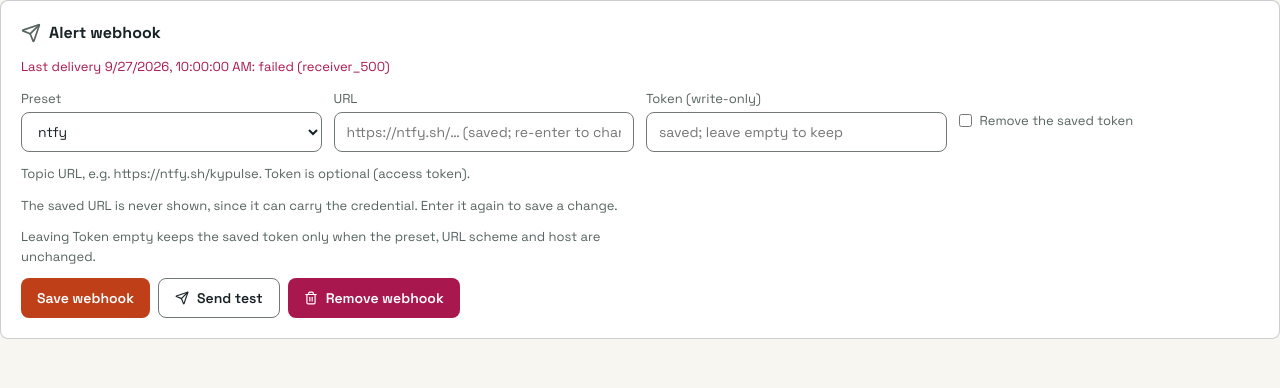
Test: WebhookForm › shows the reason when a test send fails, and re-reads the webhook
Click the button "Send test".
click(219, 298)  # box x1=158 y1=278 x2=280 y2=318
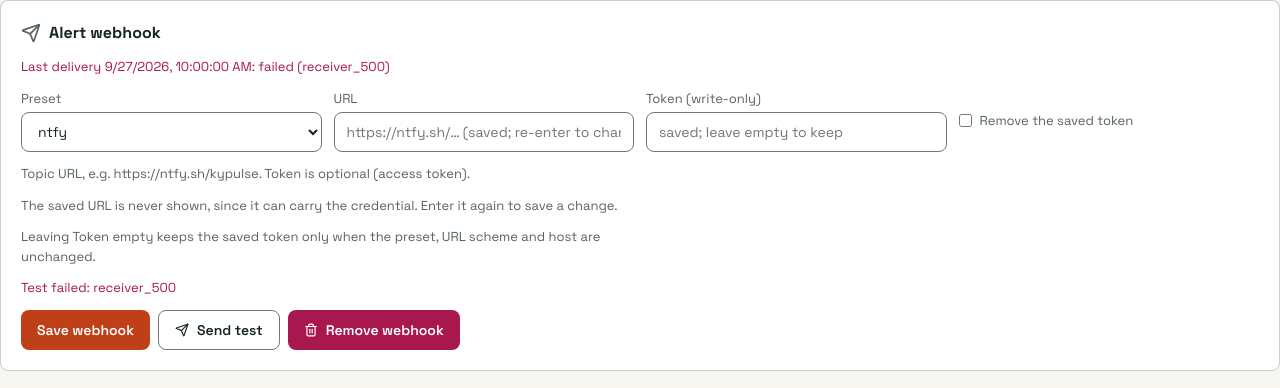
Now the text "Test failed: receiver_500" is shown, box x1=21 y1=279 x2=176 y2=296
